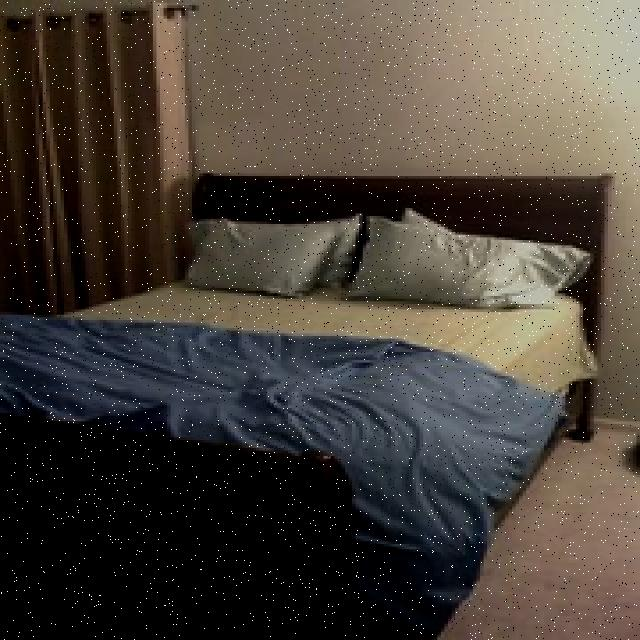bed: (0, 202, 590, 640)
